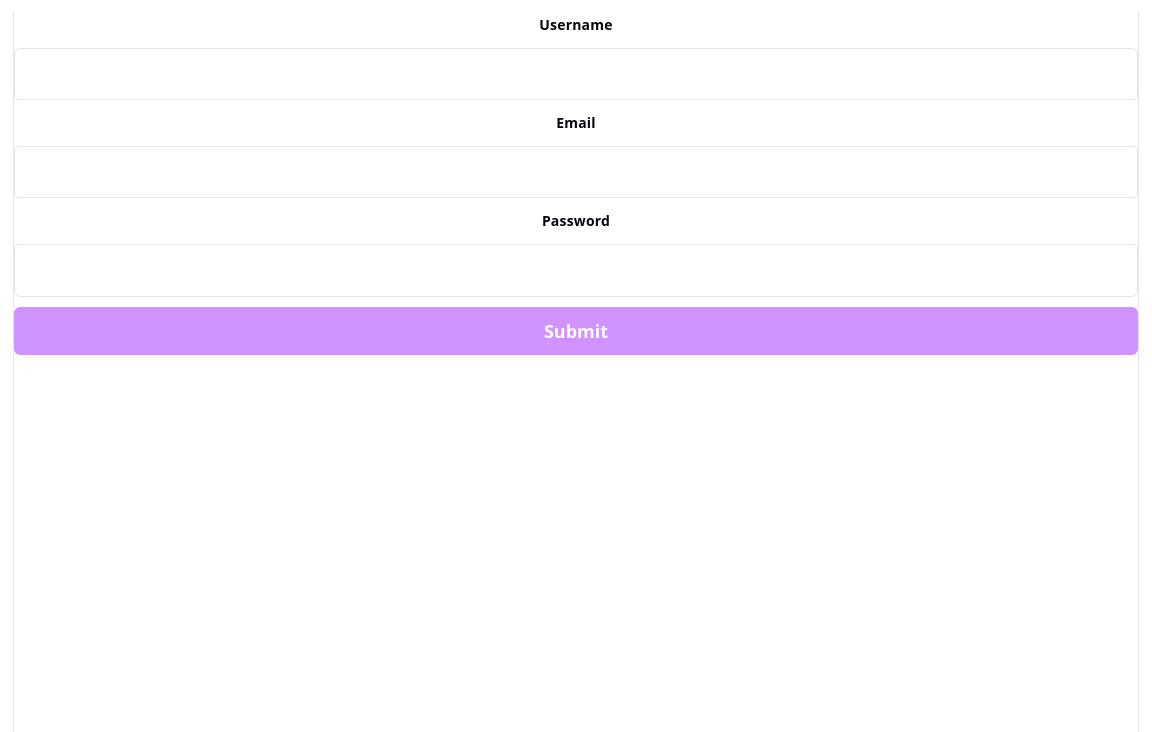
RegistrationForm Component › submit button enables when all fields are valid
Type "David" into the field labelled "Username" at x=576, y=74, box [14,48,1138,100]
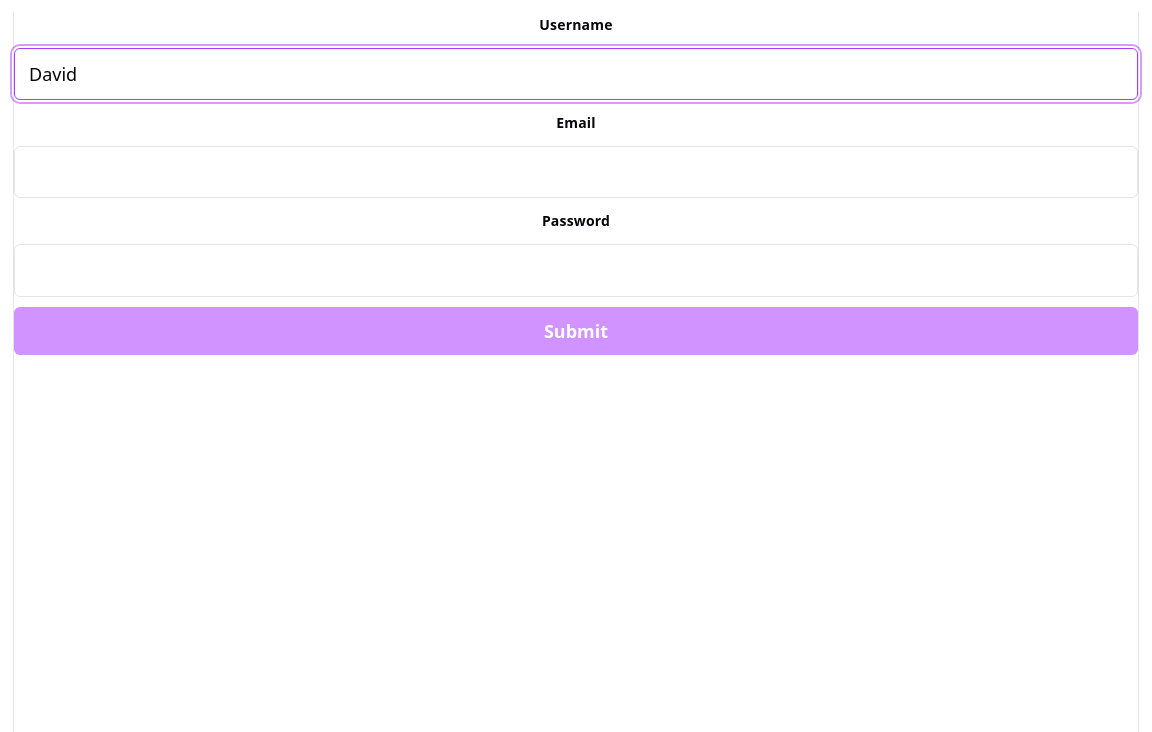
Type "david@test.com" into the field labelled "Email" at x=576, y=172, box [14,146,1138,198]
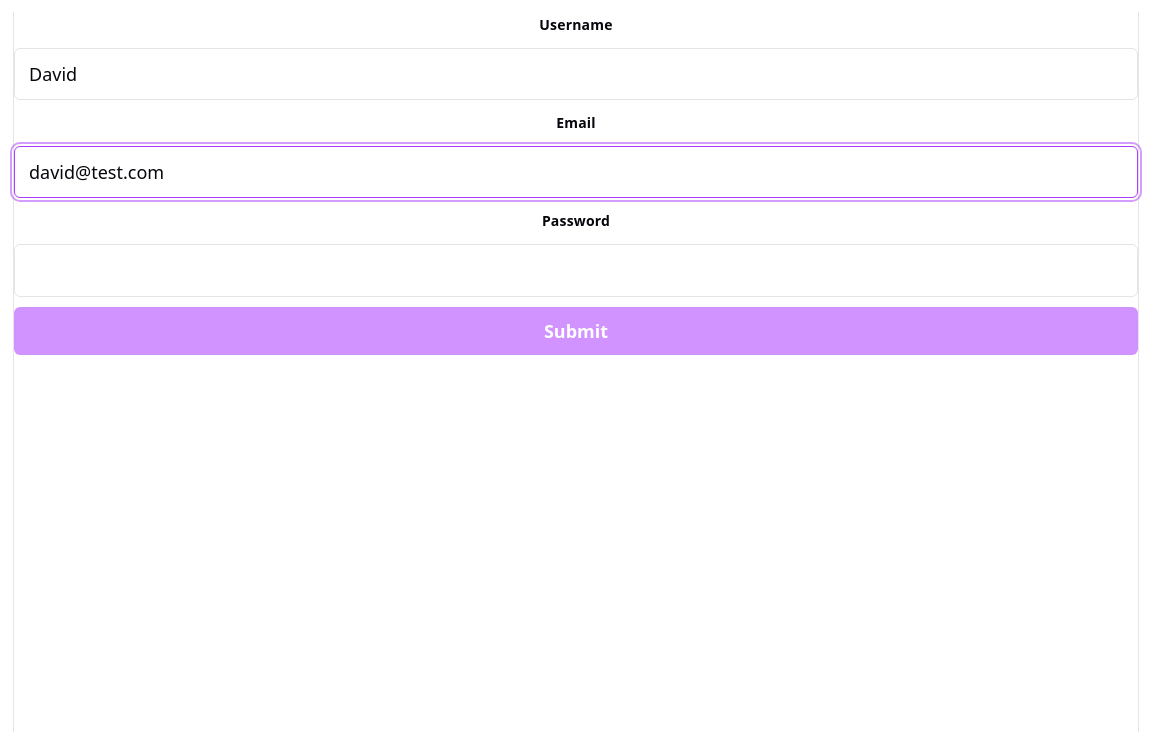
Type "password123" into the password field labelled "Password" at x=576, y=271, box [14,244,1138,297]
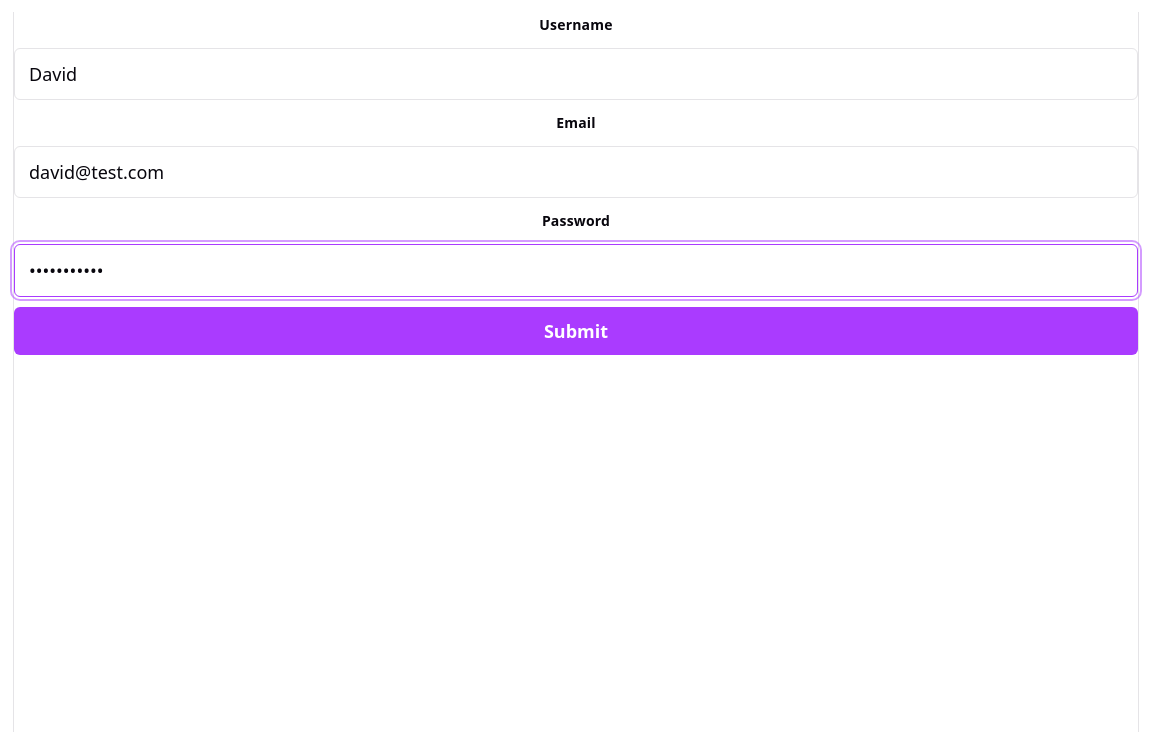
Expected: the button "Submit" is enabled, [14,307,1138,355]
